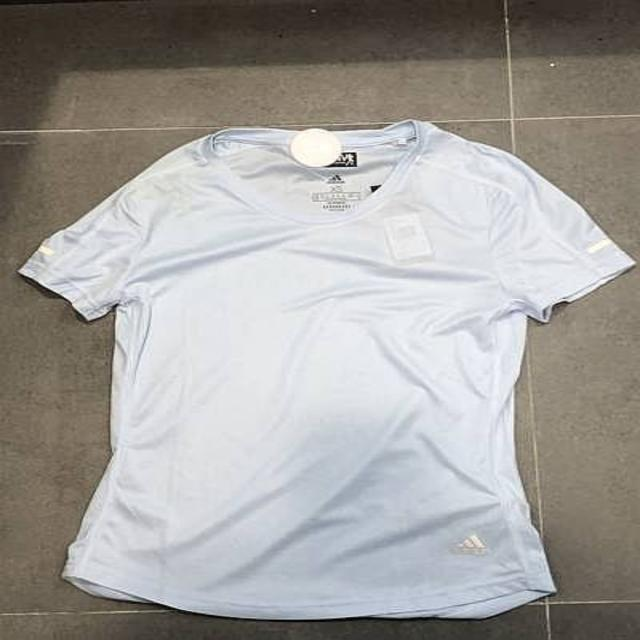T_SHIRT: (14, 102, 640, 627)
